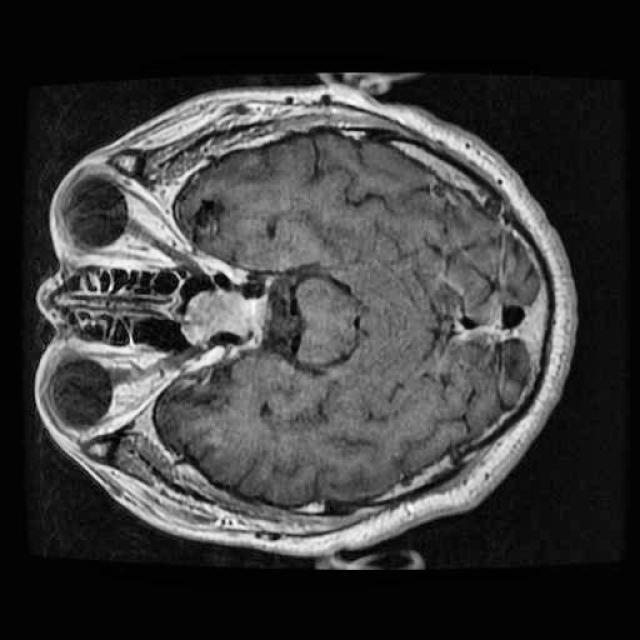Tumor: (176, 275, 260, 358)
